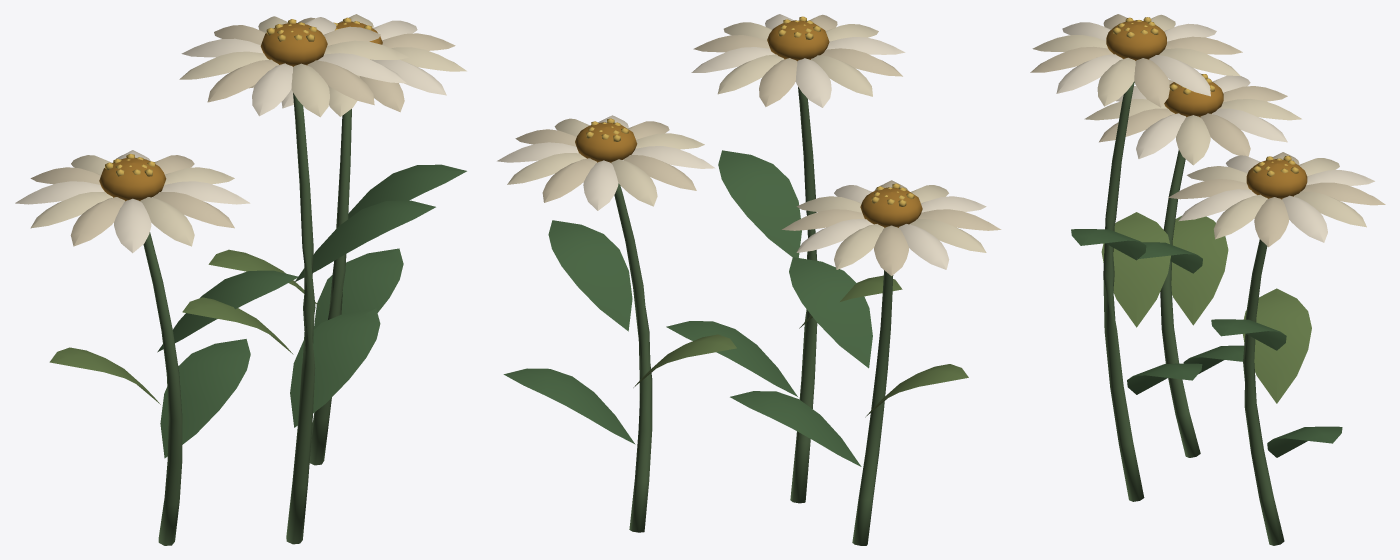
File: daisy.glb
The picture shows the model from 3 angles, left to right: view 1: azimuth 30°, elevation 25°; view 2: azimuth 150°, elevation 25°; view 3: azimuth 270°, elevation 25°; orthographic projection. The views are drawn at different scales.
Parts seen in each view (by area): view 1: Flower_mesh; view 2: Flower_mesh; view 3: Flower_mesh.
Boxes of the visible parts, x1=… form: Flower_mesh: x1=15, y1=14, x2=466, y2=545; Flower_mesh: x1=497, y1=14, x2=1001, y2=545; Flower_mesh: x1=1030, y1=14, x2=1385, y2=545.
Size of the model in its own units: 0.6236 by 0.6562 by 0.4457.
